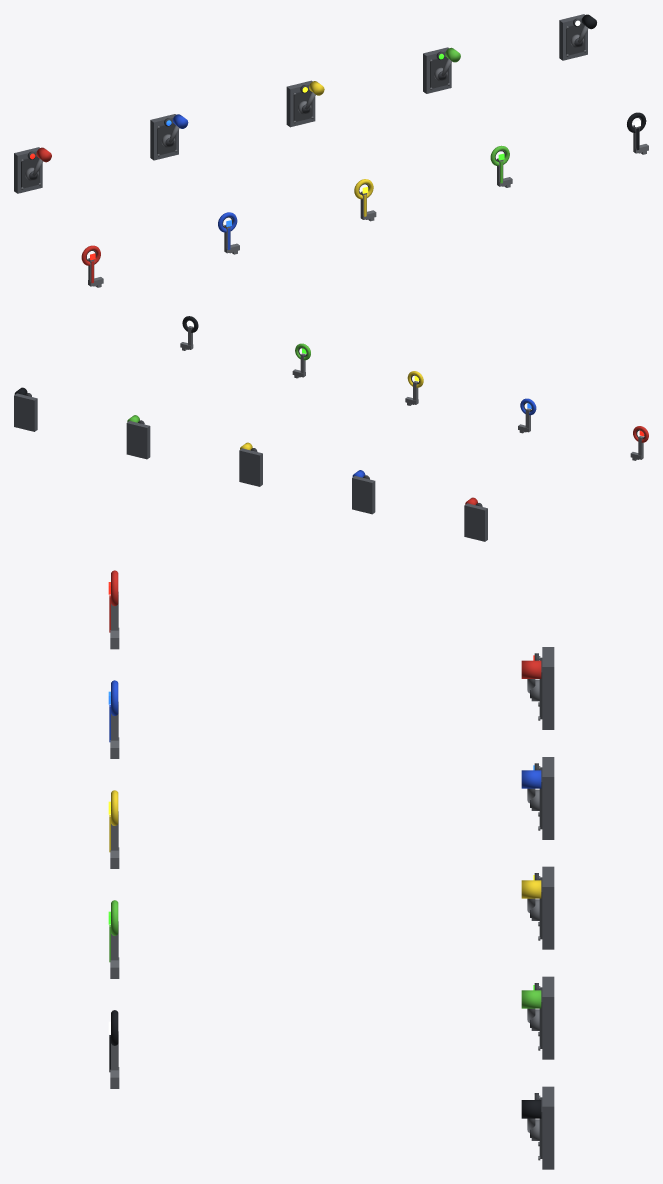
The model's file is keys and levers.glb.
3 renders of one model, top to bottom at view 1: azimuth 30°, elevation 25°; view 2: azimuth 150°, elevation 25°; view 3: azimuth 270°, elevation 25°, orthographic. The views are drawn at different scales.
Parts seen in each view (by area): view 1: Lever_Yellow_Backplate, Lever_Black_Backplate, Lever_Blue_Backplate, Lever_Red_Backplate, Lever_Green_Backplate; view 2: Lever_Green_Backplate, Lever_Yellow_Backplate, Lever_Black_Backplate, Lever_Red_Backplate, Lever_Blue_Backplate; view 3: Lever_Black_Backplate, Lever_Green_Backplate, Lever_Yellow_Backplate, Lever_Blue_Backplate, Lever_Red_Backplate.
Boxes of the visible parts, x1,y1,x2,y2 form: Lever_Yellow_Backplate: [286, 80, 315, 127]; Lever_Black_Backplate: [559, 14, 587, 60]; Lever_Blue_Backplate: [150, 114, 178, 160]; Lever_Red_Backplate: [14, 147, 42, 193]; Lever_Green_Backplate: [423, 47, 451, 93]; Lever_Green_Backplate: [126, 421, 150, 459]; Lever_Yellow_Backplate: [239, 448, 262, 486]; Lever_Black_Backplate: [14, 393, 37, 431]; Lever_Red_Backplate: [464, 503, 487, 541]; Lever_Blue_Backplate: [352, 476, 375, 514]; Lever_Black_Backplate: [542, 1086, 554, 1169]; Lever_Green_Backplate: [542, 976, 554, 1059]; Lever_Yellow_Backplate: [542, 866, 554, 949]; Lever_Blue_Backplate: [542, 757, 554, 839]; Lever_Red_Backplate: [542, 647, 554, 729].
Bounding box in the file's own units: 11.24 × 0.946 × 4.11.
